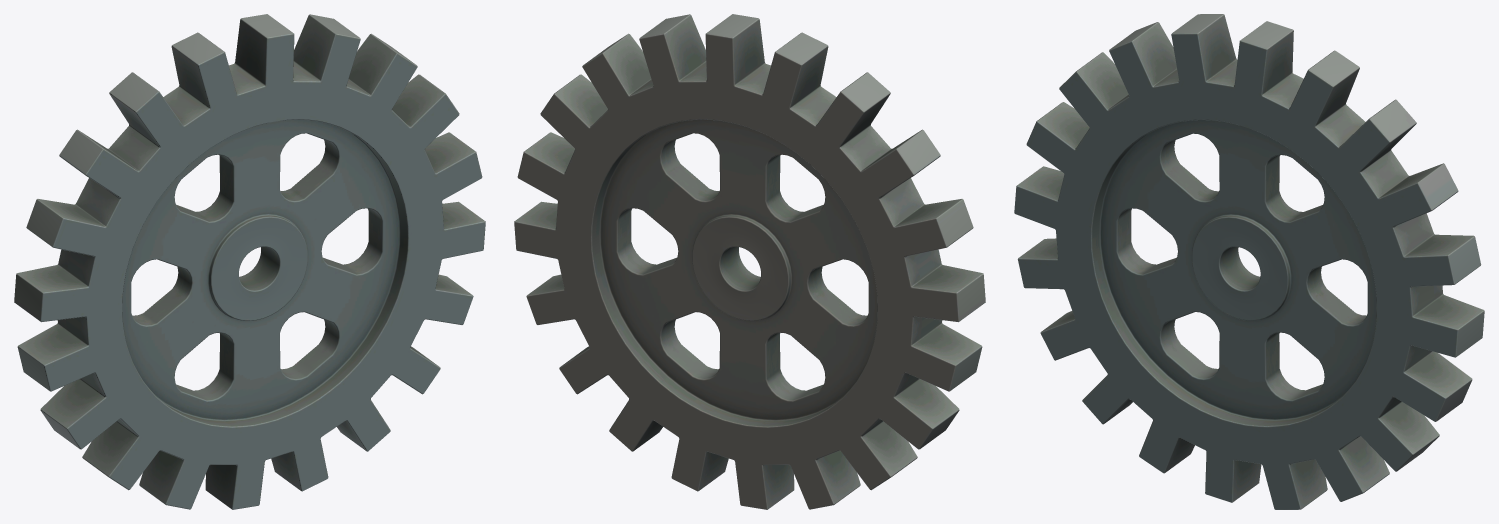
Rendered from Shield.fbx.
3 renders of one model, left to right at view 1: azimuth 30°, elevation 25°; view 2: azimuth 150°, elevation 25°; view 3: azimuth 330°, elevation 25°, orthographic.
Visible parts, largest first — view 1: node_id131; view 2: node_id131; view 3: node_id131.
Boxes of the visible parts, left/top/right/bottom form: node_id131: left=14, top=14, right=485, bottom=509; node_id131: left=514, top=14, right=985, bottom=509; node_id131: left=1014, top=14, right=1484, bottom=509.
Bounding box in the file's own units: 0.512 × 0.512 × 0.0624.
Materials: 1 (1 with a texture image).
